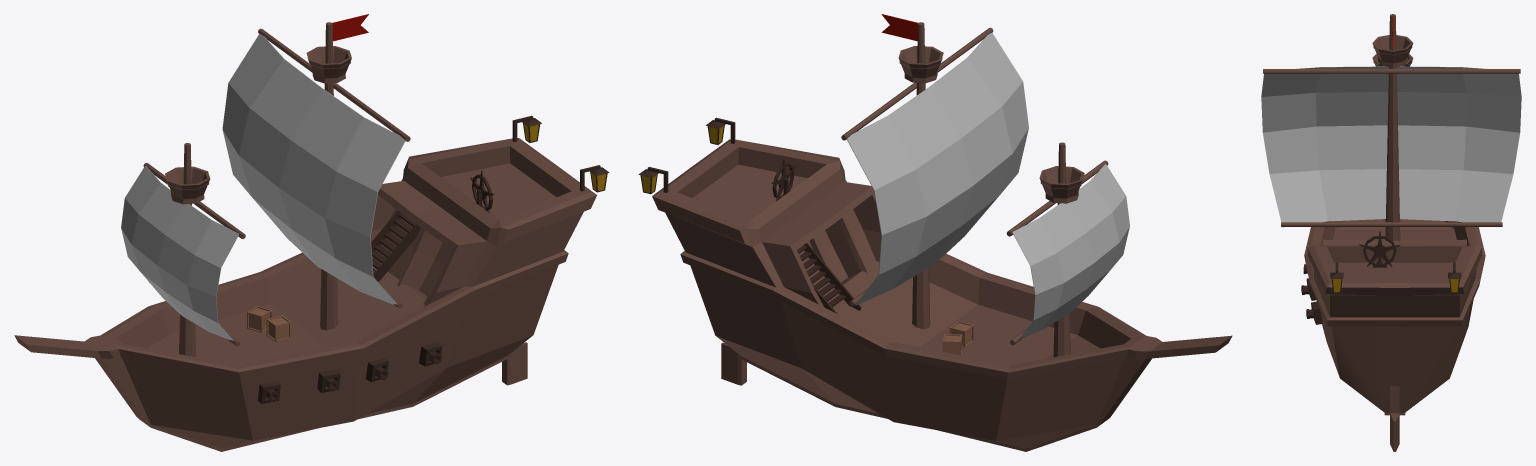
File: Boot Model.fbx
3 renders of one model, left to right at view 1: azimuth 30°, elevation 25°; view 2: azimuth 150°, elevation 25°; view 3: azimuth 270°, elevation 25°, orthographic. The views are drawn at different scales.
Visible parts, largest first — view 1: Boat_3Dmaaktoets:polySurface9, polySurface7, polySurface2, Boat_3Dmaaktoets:polySurface32, Boat_3Dmaaktoets:polySurface67, polySurface4, Boat_3Dmaaktoets:polySurface22, polySurface1; view 2: Boat_3Dmaaktoets:polySurface9, polySurface7, polySurface2, Boat_3Dmaaktoets:polySurface67, polySurface4, Boat_3Dmaaktoets:polySurface22, polySurface1; view 3: polySurface7, Boat_3Dmaaktoets:polySurface9, polySurface2, polySurface4, polySurface6, Boat_3Dmaaktoets:polySurface65, Boat_3Dmaaktoets:polySurface22, Boat_3Dmaaktoets:polySurface32.
Part boxes in pixels (left/top/right/bottom): Boat_3Dmaaktoets:polySurface9: left=14, top=138, right=596, bottom=451; polySurface7: left=121, top=34, right=405, bottom=340; polySurface2: left=165, top=22, right=351, bottom=357; Boat_3Dmaaktoets:polySurface32: left=258, top=342, right=442, bottom=403; Boat_3Dmaaktoets:polySurface67: left=371, top=210, right=420, bottom=281; polySurface4: left=258, top=28, right=410, bottom=141; Boat_3Dmaaktoets:polySurface22: left=502, top=342, right=527, bottom=385; polySurface1: left=332, top=14, right=368, bottom=41; Boat_3Dmaaktoets:polySurface9: left=652, top=139, right=1232, bottom=451; polySurface7: left=846, top=32, right=1129, bottom=339; polySurface2: left=898, top=22, right=1084, bottom=357; Boat_3Dmaaktoets:polySurface67: left=797, top=242, right=861, bottom=313; polySurface4: left=841, top=27, right=993, bottom=140; Boat_3Dmaaktoets:polySurface22: left=721, top=342, right=746, bottom=385; polySurface1: left=881, top=14, right=917, bottom=41; polySurface7: left=1261, top=66, right=1521, bottom=227; Boat_3Dmaaktoets:polySurface9: left=1304, top=219, right=1485, bottom=415; polySurface2: left=1372, top=14, right=1413, bottom=240; polySurface4: left=1263, top=69, right=1520, bottom=73; polySurface6: left=1281, top=222, right=1502, bottom=226; Boat_3Dmaaktoets:polySurface65: left=1359, top=231, right=1400, bottom=267; Boat_3Dmaaktoets:polySurface22: left=1390, top=386, right=1399, bottom=451; Boat_3Dmaaktoets:polySurface32: left=1301, top=264, right=1322, bottom=324.
Size of the model in its own units: 35.28 by 24.65 by 16.52.
